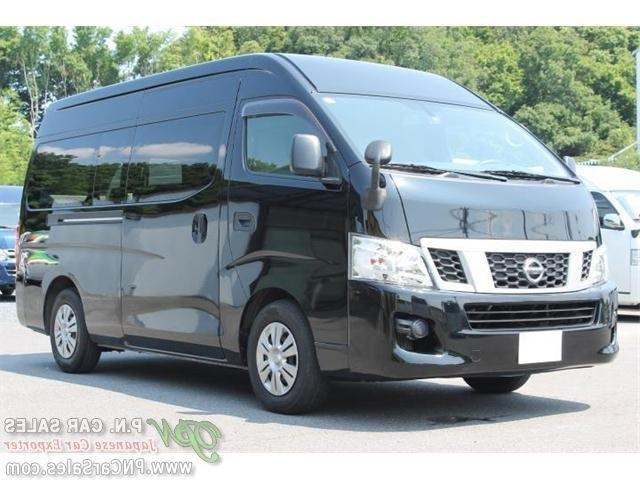van: (12, 50, 612, 411)
